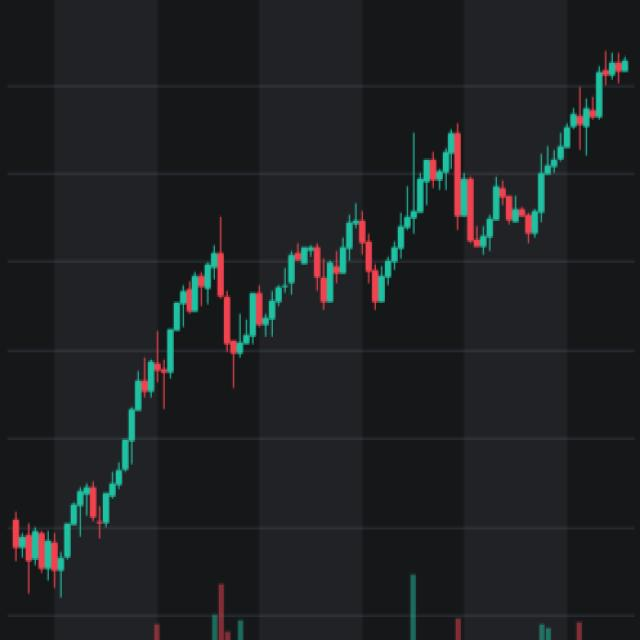Resistance-breakout: (5, 216, 220, 594)
